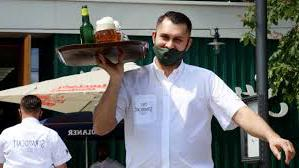mask_weared_incorrect: (154, 31, 186, 63)
